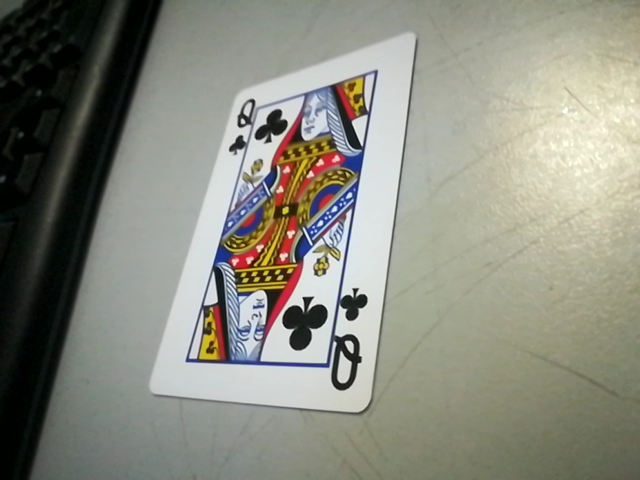mh q: (324, 286, 376, 403)
